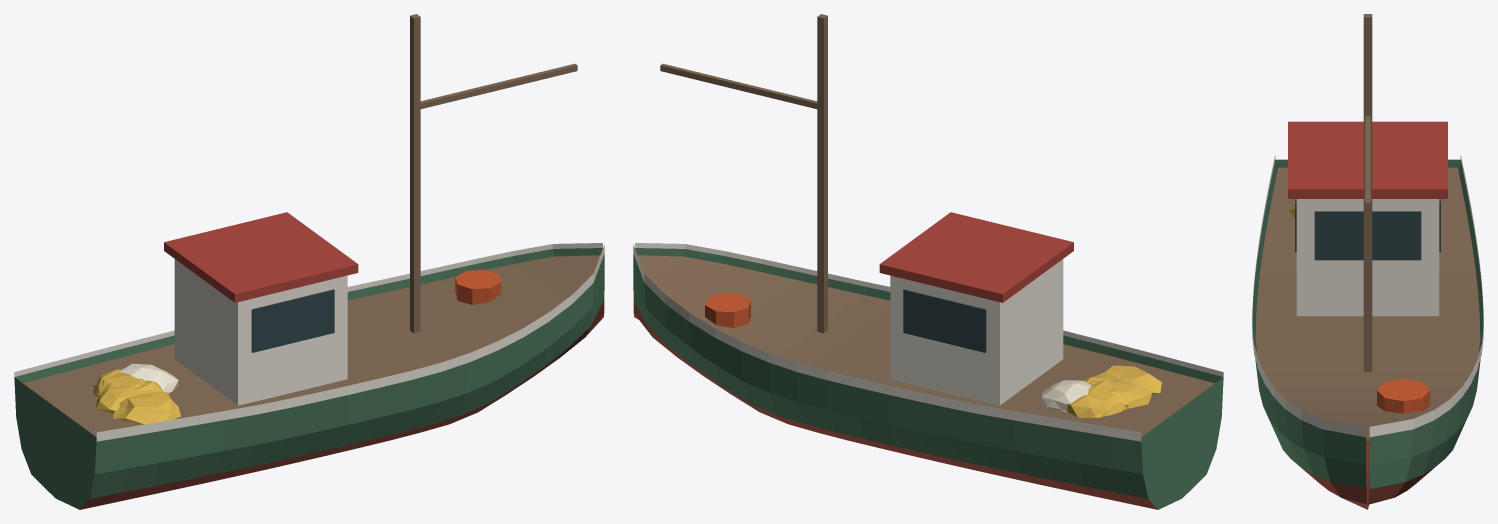
The model's file is balikci-teknesi-yesil.glb.
3 renders of one model, left to right at view 1: azimuth 30°, elevation 25°; view 2: azimuth 150°, elevation 25°; view 3: azimuth 270°, elevation 25°, orthographic. The views are drawn at different scales.
Parts seen in each view (by area): view 1: tekne_yesil, ahsap, tekne_beyaz, tekne_kirmizi, cam, karina, tekne_sari, can, ip; view 2: tekne_yesil, ahsap, tekne_beyaz, tekne_kirmizi, cam, karina, tekne_sari, can, ip; view 3: ahsap, tekne_beyaz, tekne_yesil, tekne_kirmizi, cam, karina, can.
Boxes of the visible parts, bbox=[...] form: tekne_yesil: bbox=[14, 248, 604, 509]; ahsap: bbox=[23, 14, 600, 436]; tekne_beyaz: bbox=[14, 243, 604, 441]; tekne_kirmizi: bbox=[164, 212, 358, 302]; cam: bbox=[251, 289, 334, 352]; karina: bbox=[80, 300, 604, 509]; tekne_sari: bbox=[93, 369, 180, 424]; can: bbox=[455, 269, 501, 304]; ip: bbox=[119, 363, 178, 393]; tekne_yesil: bbox=[633, 248, 1223, 509]; ahsap: bbox=[637, 14, 1214, 436]; tekne_beyaz: bbox=[633, 243, 1223, 441]; tekne_kirmizi: bbox=[879, 212, 1073, 302]; cam: bbox=[903, 289, 986, 352]; karina: bbox=[633, 300, 1157, 509]; tekne_sari: bbox=[1067, 365, 1161, 417]; can: bbox=[705, 293, 750, 327]; ip: bbox=[1040, 380, 1091, 412]; ahsap: bbox=[1255, 14, 1480, 440]; tekne_beyaz: bbox=[1252, 155, 1483, 437]; tekne_yesil: bbox=[1252, 159, 1483, 488]; tekne_kirmizi: bbox=[1288, 121, 1447, 198]; cam: bbox=[1295, 199, 1440, 260]; karina: bbox=[1293, 440, 1434, 509]; can: bbox=[1377, 378, 1430, 413].
Bounding box in the file's own units: 8 × 5.5 × 2.6.
